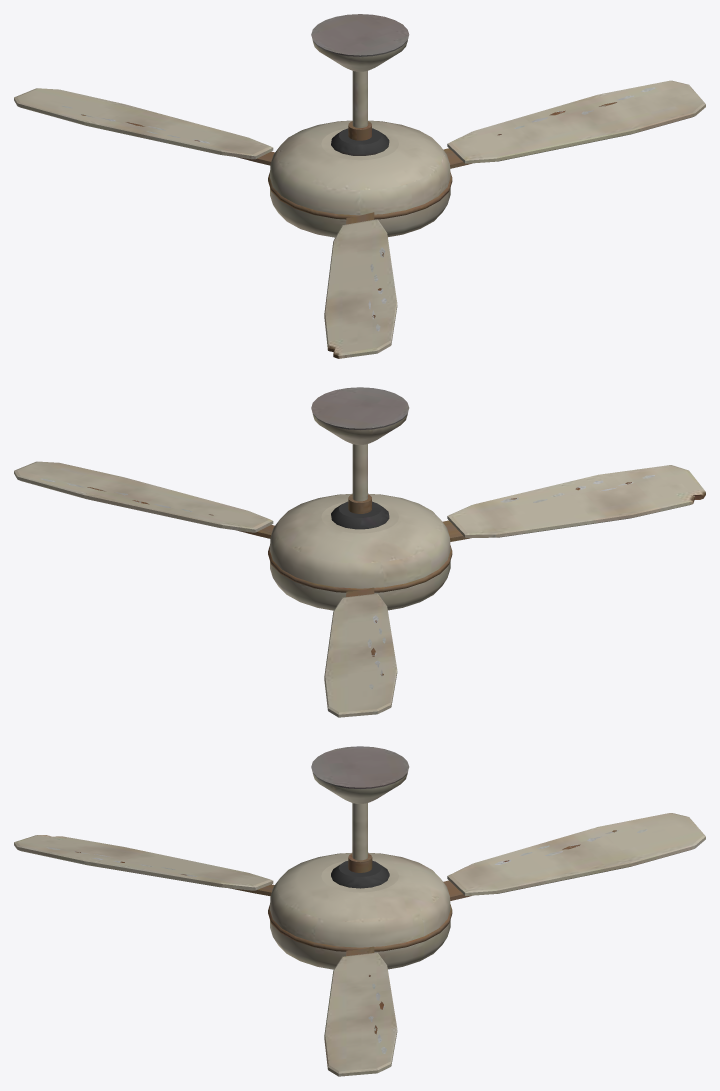
The model's file is L16_ceiling_fan.glb.
The picture shows the model from 3 angles, top to bottom: view 1: azimuth 30°, elevation 25°; view 2: azimuth 150°, elevation 25°; view 3: azimuth 270°, elevation 25°; orthographic projection.
Visible parts, largest first — view 1: Ceiling fan; view 2: Ceiling fan; view 3: Ceiling fan.
Part boxes in pixels (x1,y1,x2,y2): Ceiling fan: [14, 14, 705, 358]; Ceiling fan: [14, 387, 705, 717]; Ceiling fan: [14, 746, 705, 1076].
Size of the model in its own units: 1.05 by 0.3676 by 1.2.
Materials: 8 (8 with a texture image).
